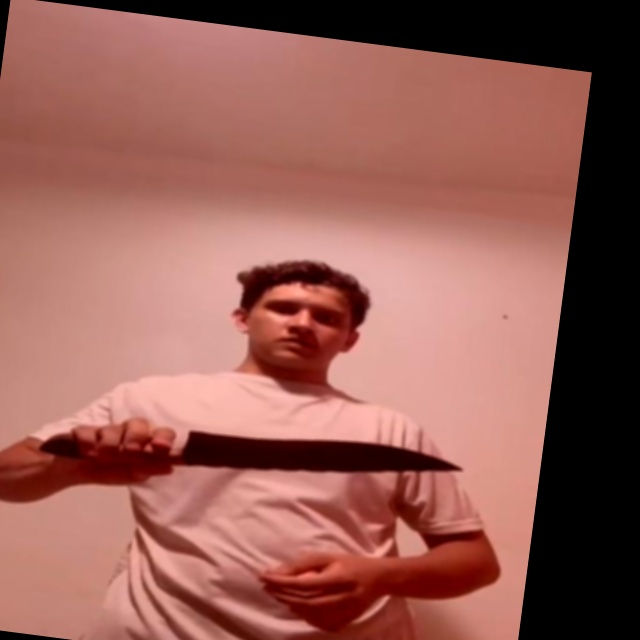Sharp-Object: (179, 417, 468, 506)
